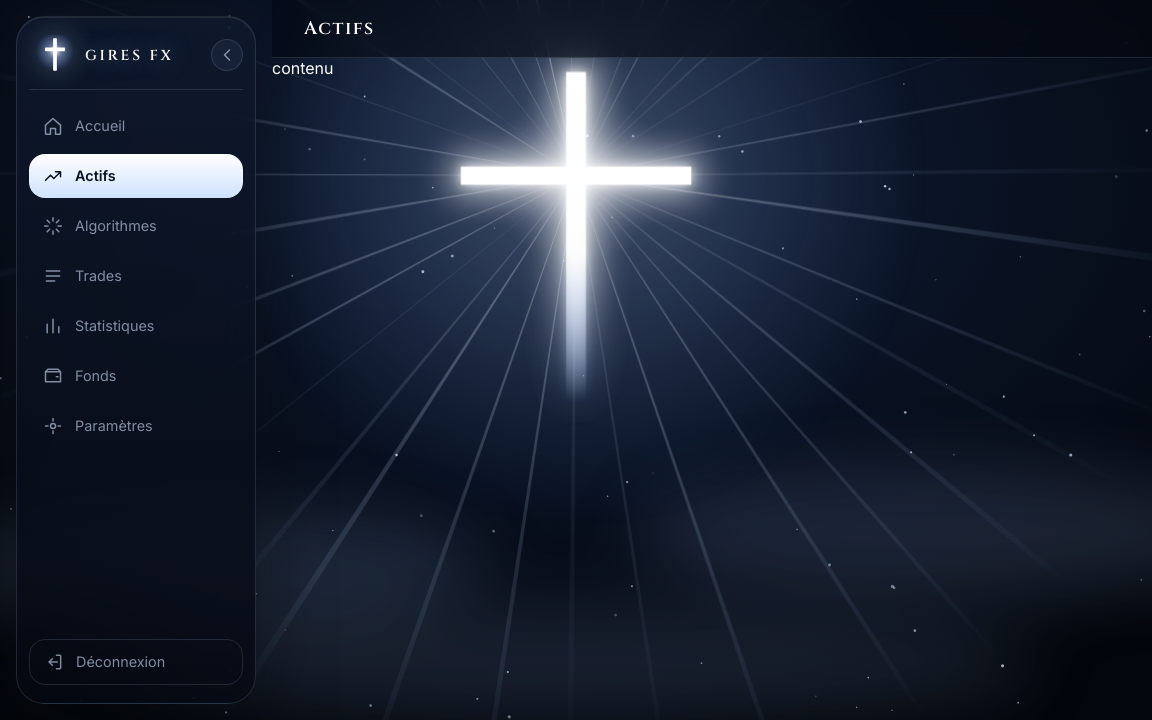
Test case: Layout : déconnexion avec confirmation › annuler garde la session
Click the button "Déconnexion". click: (136, 662)
box: [29,639,243,685]
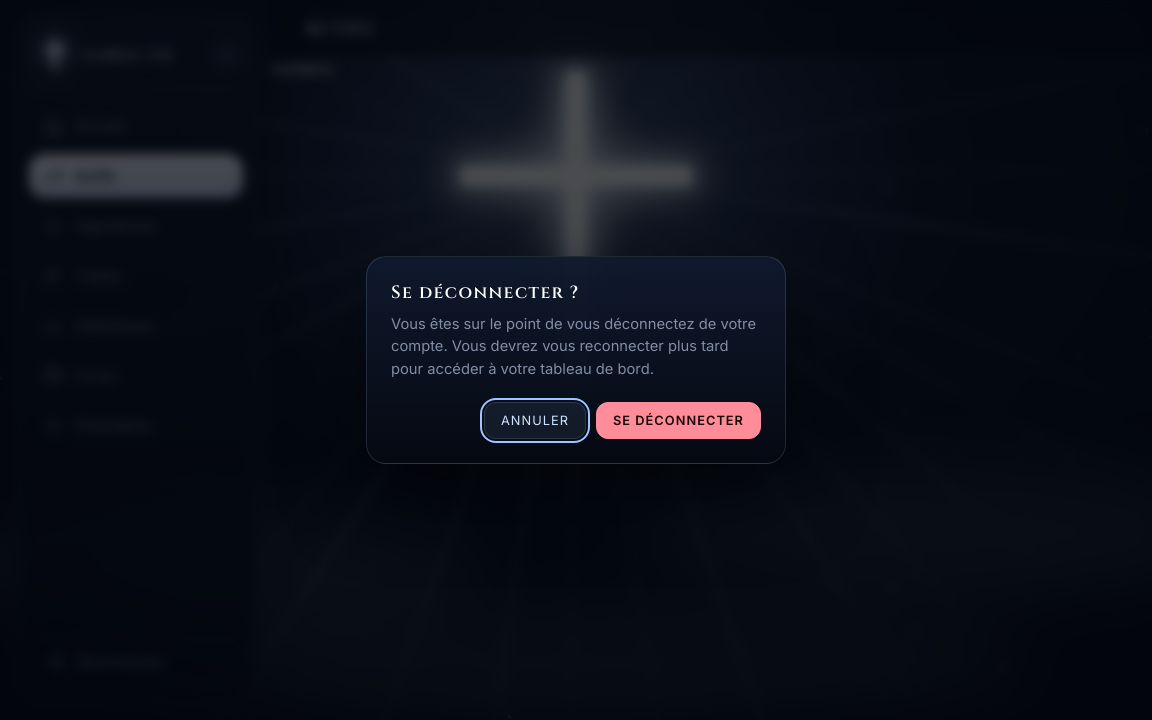
Click the button "Annuler". click: (535, 420)
box: [484,402,586,439]
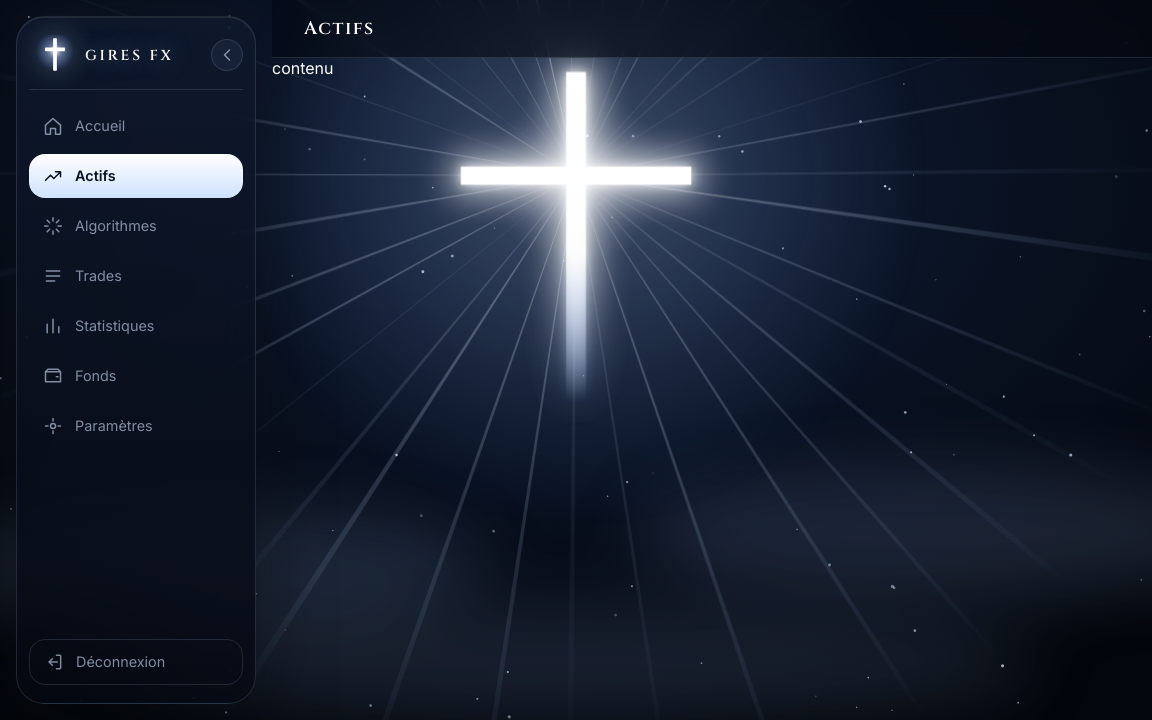
Now the dialog is gone
